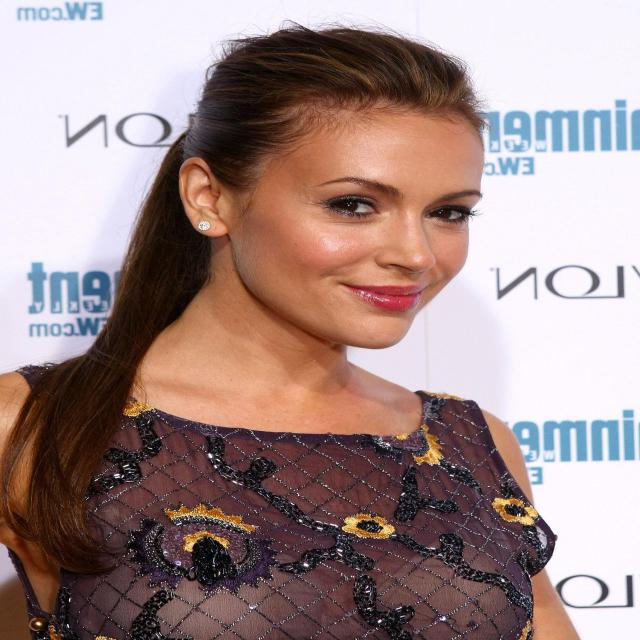no-earmuff: (158, 146, 252, 246)
